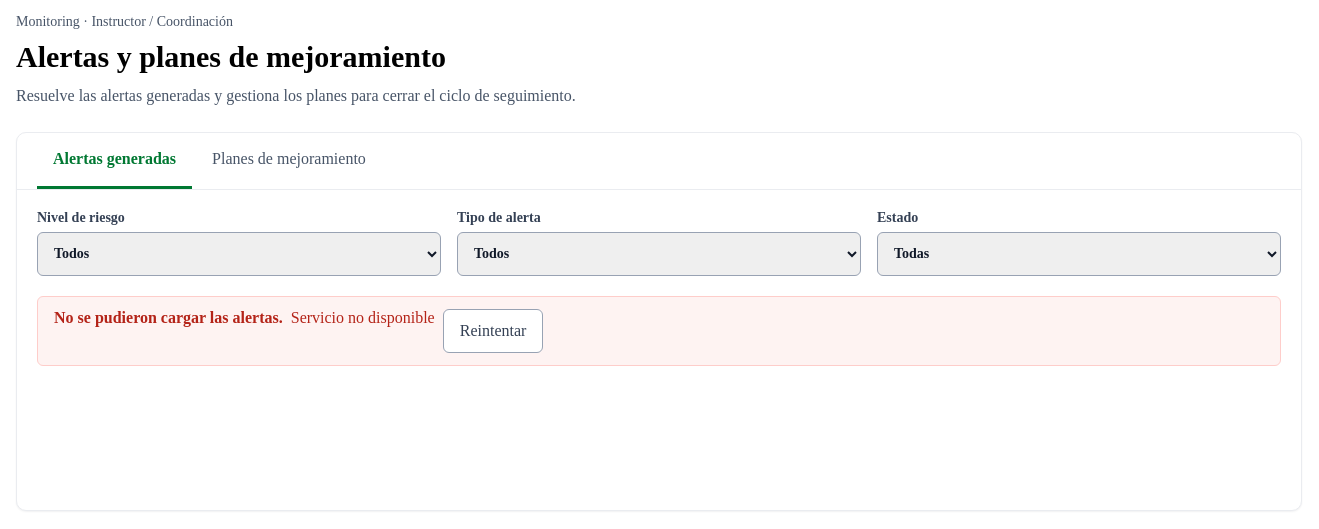
Test: HU-MON-008 alertas generadas y planes de mejoramiento › E1: error de API en el listado muestra el mensaje y permite reintentar
expect the text "Servicio no disponible" is shown: met, box [291, 308, 435, 326]
What coordinates should you click on to do the following:
click the button "Reintentar"
I would click on:
 (493, 330)
Its box is [443, 308, 543, 352].
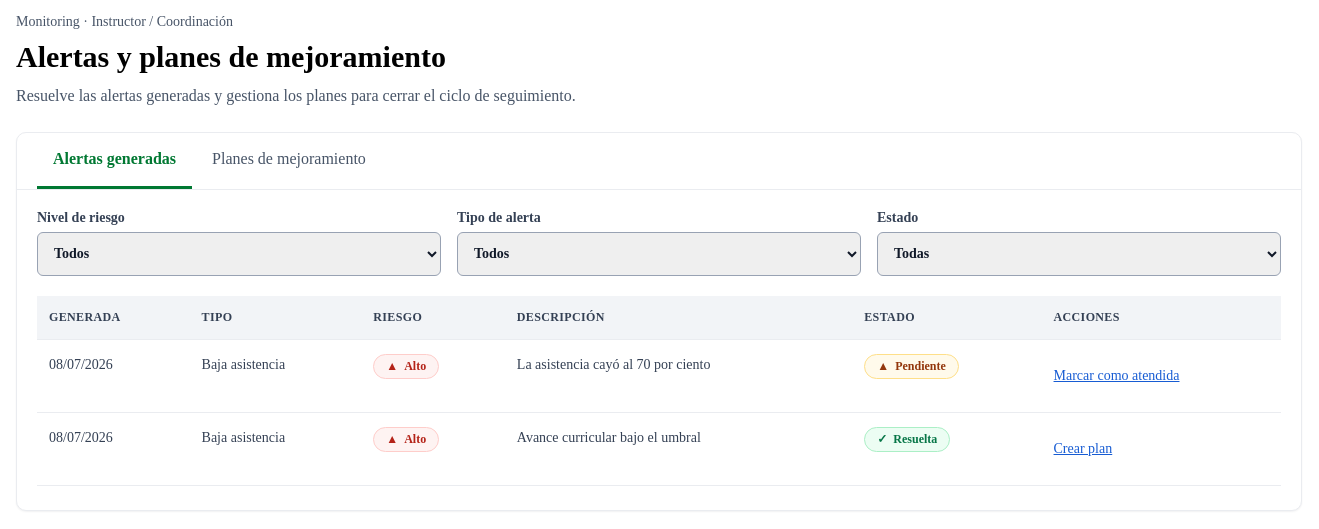
expect the text "La asistencia cayó al 70 por ciento" is shown: met, box [505, 340, 852, 412]
